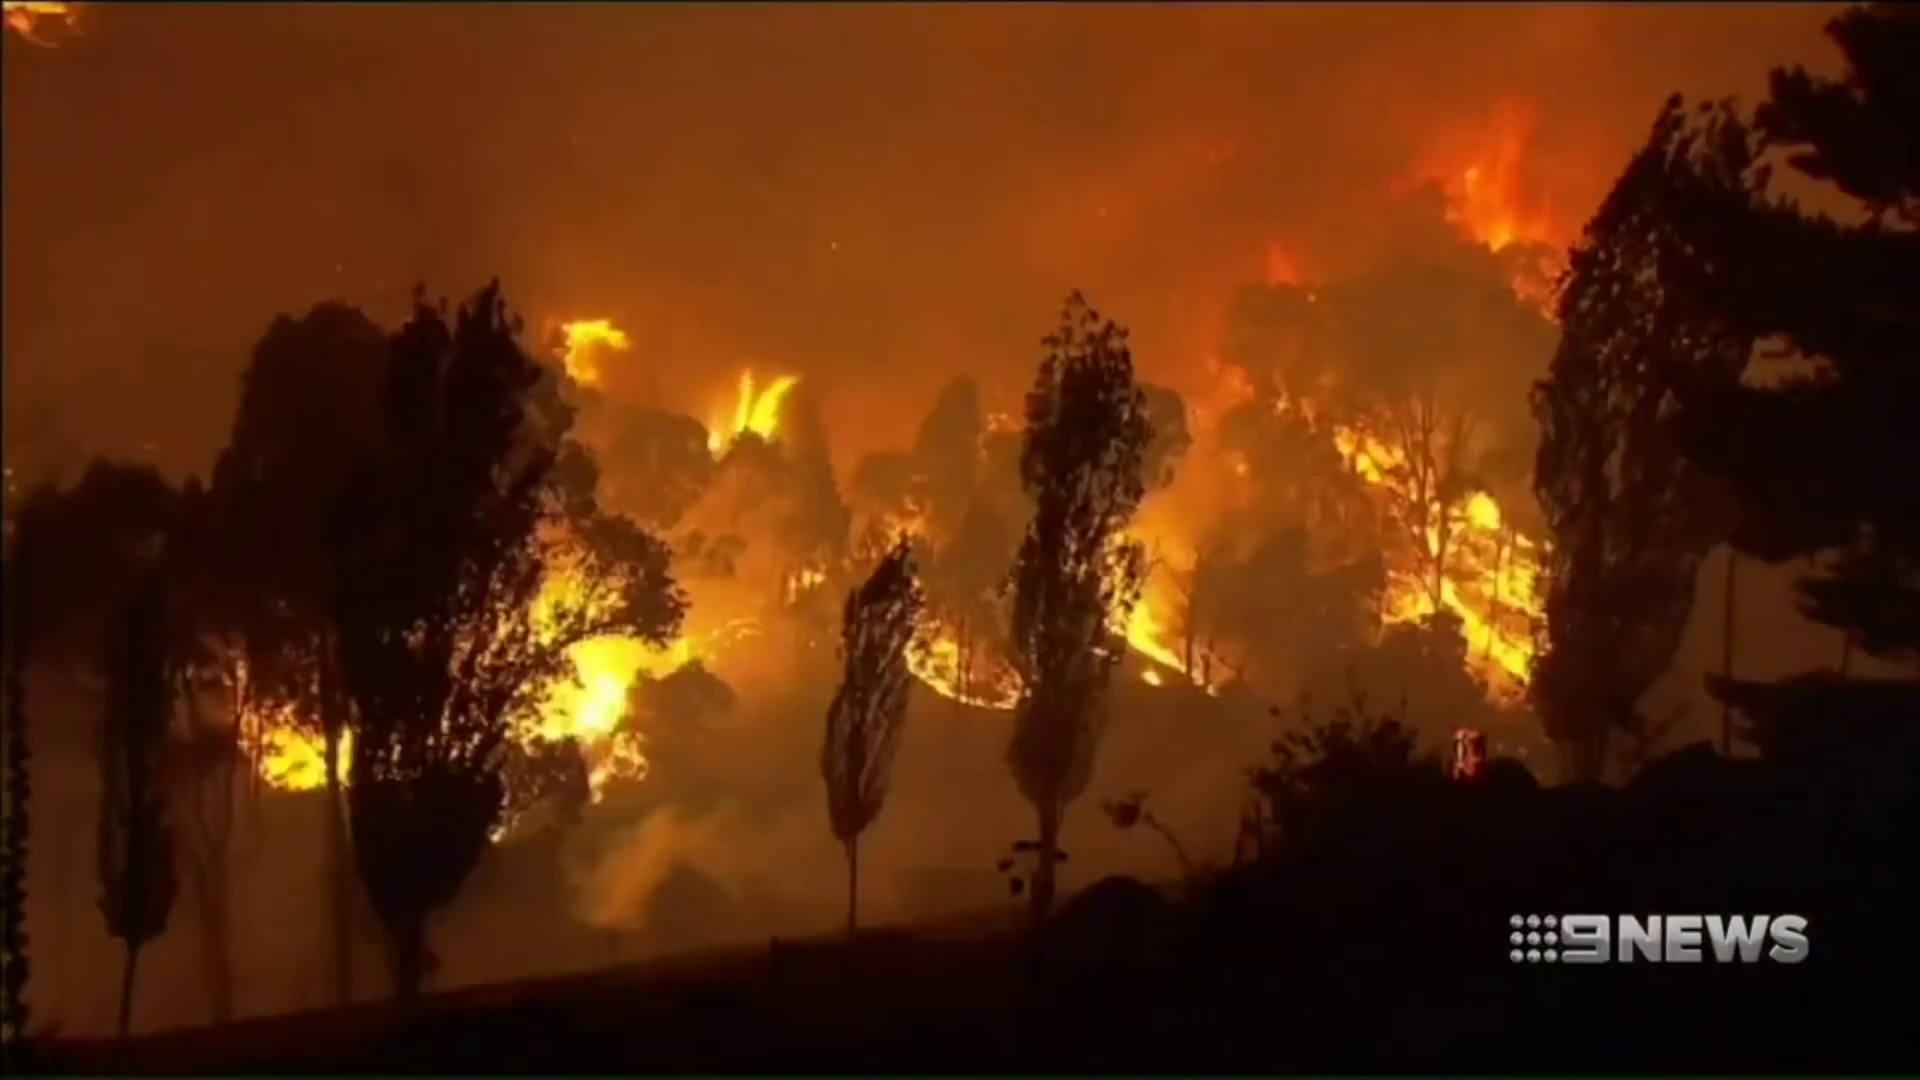fire: (1408, 487, 1547, 690), (541, 645, 630, 737), (1112, 583, 1180, 663), (560, 315, 622, 382), (258, 731, 320, 786), (736, 375, 778, 425), (915, 624, 949, 678)
